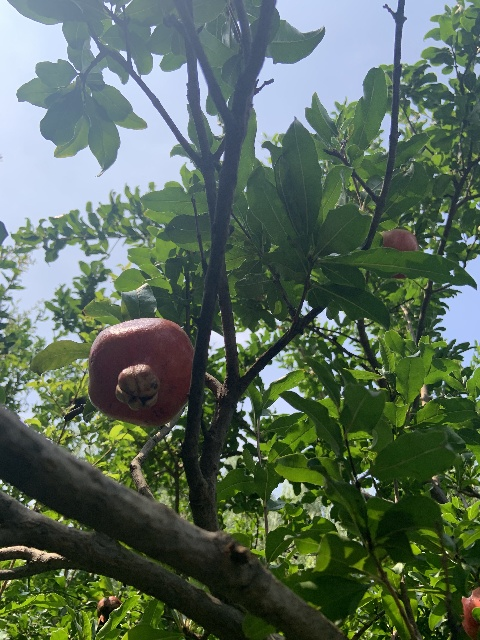ripe: (87, 317, 194, 426), (460, 587, 480, 640), (380, 228, 417, 251)
